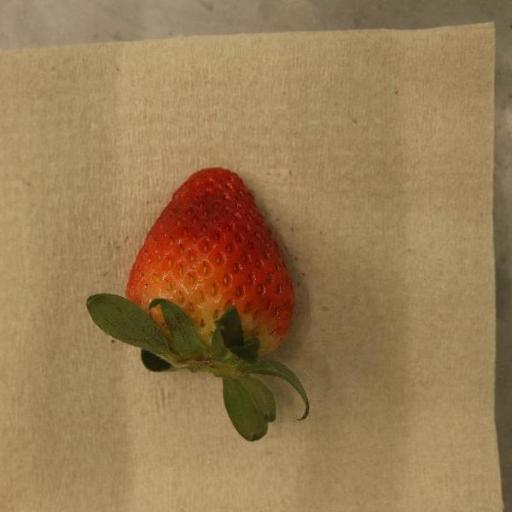Strawberry: (85, 168, 307, 443)
